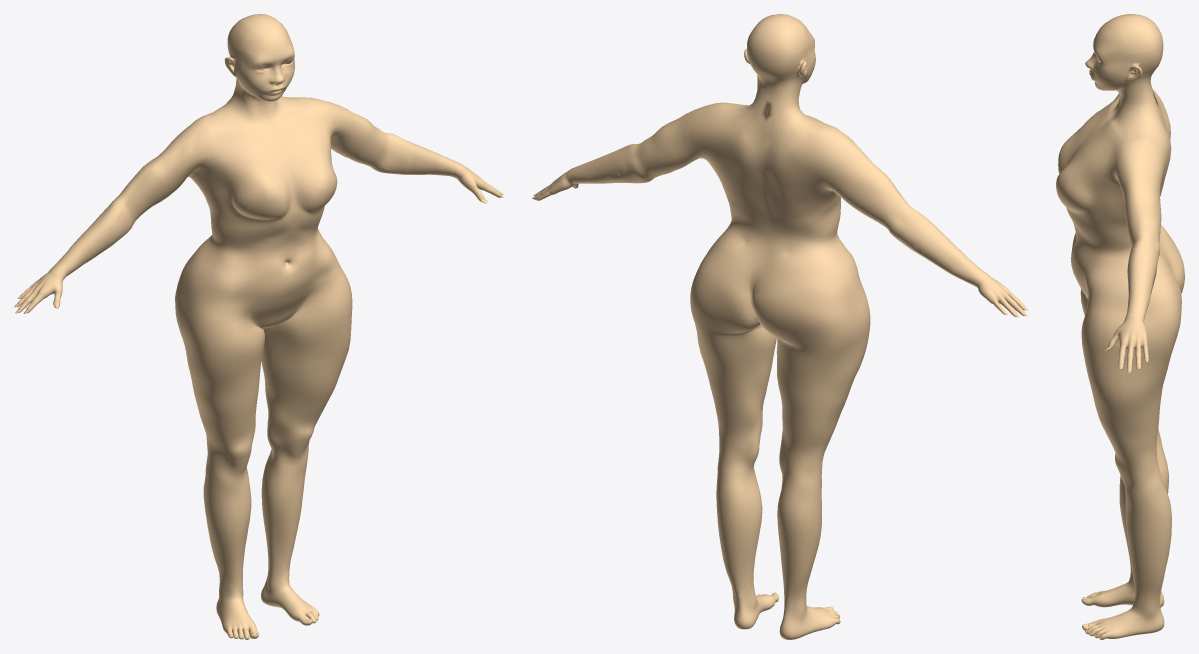
File: female_XL_1.glb
3 renders of one model, left to right at view 1: azimuth 30°, elevation 25°; view 2: azimuth 150°, elevation 25°; view 3: azimuth 270°, elevation 25°, orthographic.
Visible parts, largest first — view 1: Body; view 2: Body; view 3: Body.
Boxes of the visible parts, x1,y1,x2,y2 form: Body: (16, 14, 503, 639); Body: (533, 14, 1024, 639); Body: (1056, 14, 1184, 639).
Size of the model in its own units: 1.58 by 1.85 by 0.3591.
